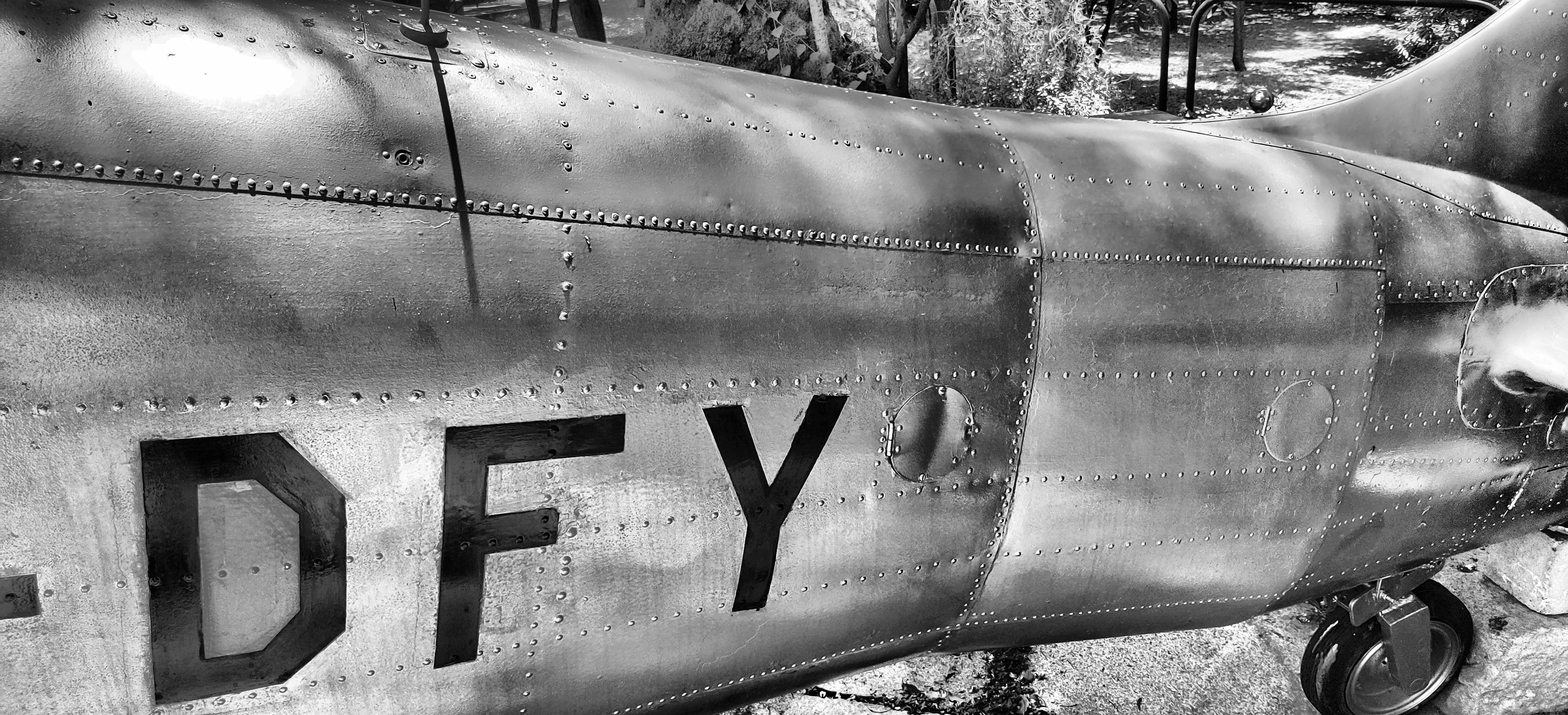dent: (924, 395, 952, 477), (1493, 470, 1516, 489)
missing-head: (964, 427, 971, 435), (1436, 560, 1443, 566), (1337, 500, 1341, 504)
